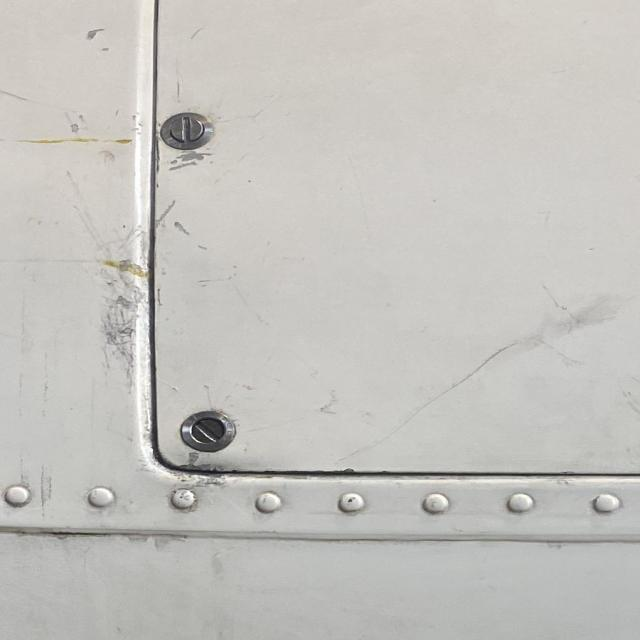Paint-off: (164, 147, 211, 172), (66, 118, 81, 137), (84, 28, 101, 40)
Scratch: (410, 333, 540, 416), (150, 196, 181, 233), (0, 88, 34, 104)
